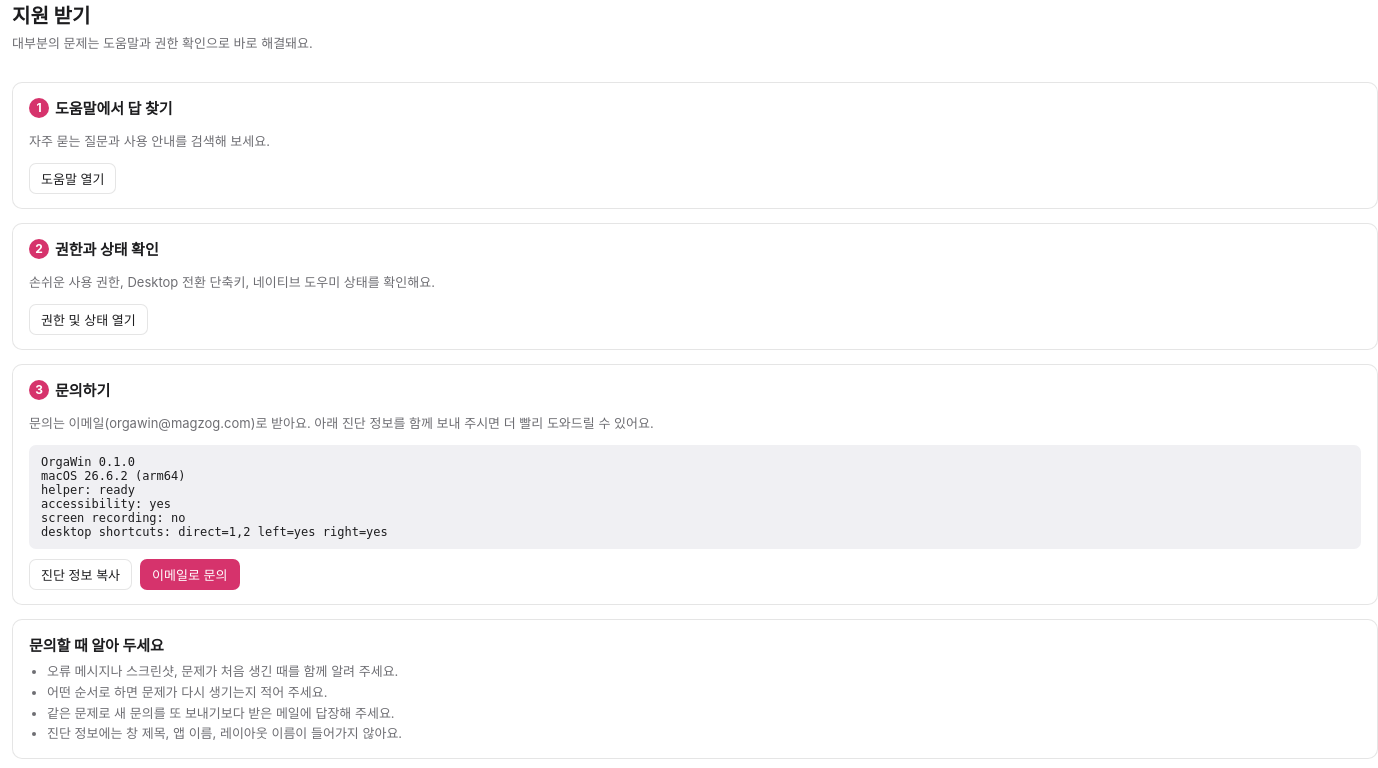
it: SupportTab › shows diagnostics, copies them and drafts a mail
Check: the text named "진단 정보" shows "OrgaWin 0.1.0", box [41,455,388,539]
Click the button "진단 정보 복사": [81, 574] box [29,559,132,590]
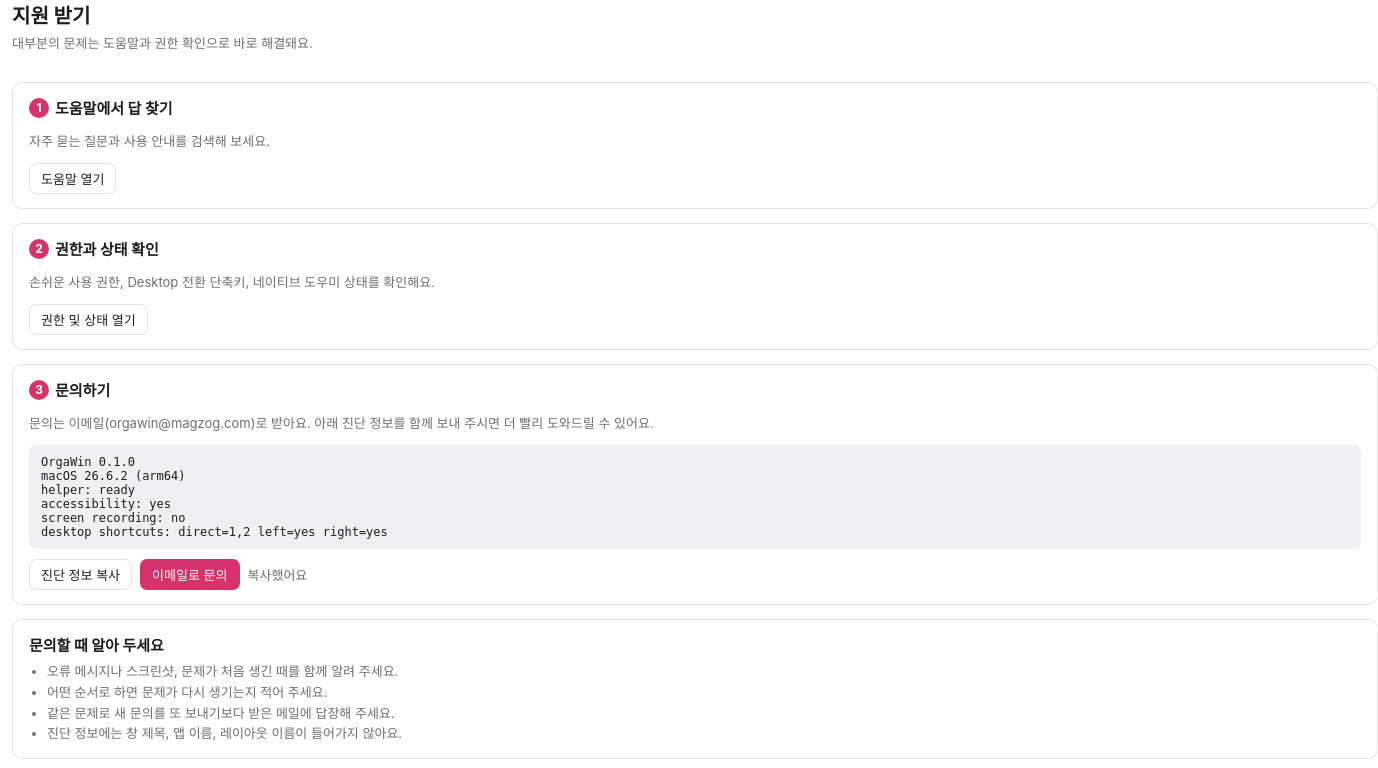
Check: the text "복사했어요" is shown, box [248,565,307,584]
